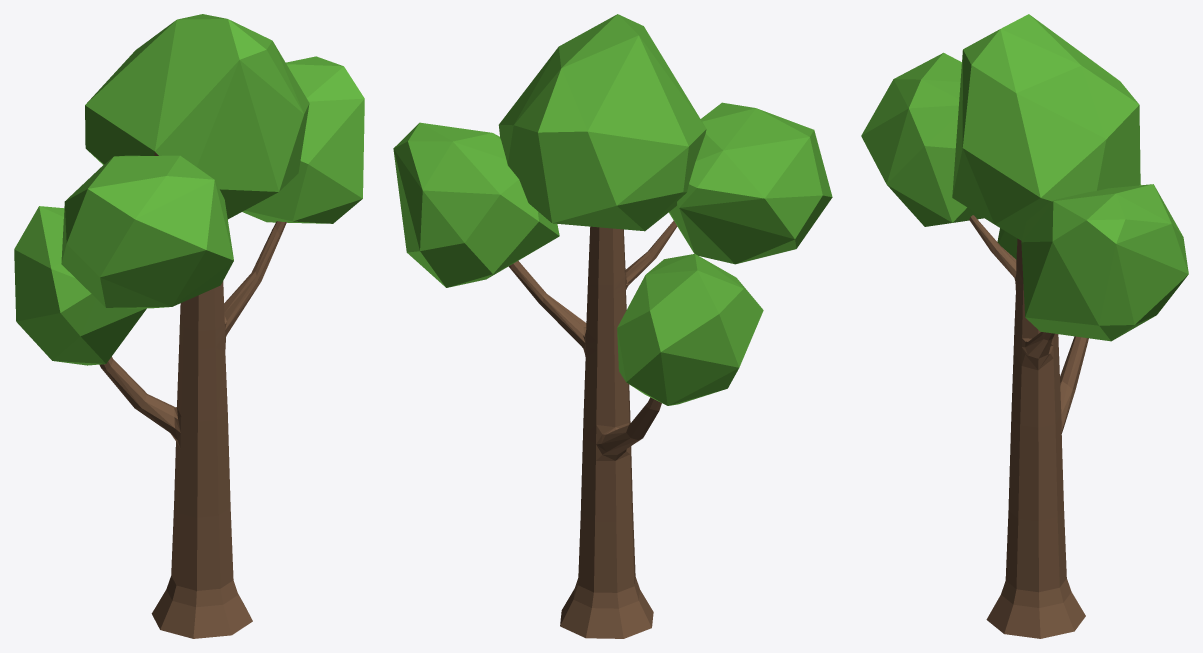
The model's file is Tree-2.fbx.
3 renders of one model, left to right at view 1: azimuth 30°, elevation 25°; view 2: azimuth 150°, elevation 25°; view 3: azimuth 270°, elevation 25°, orthographic. The views are drawn at different scales.
Parts seen in each view (by area): view 1: Herfst_Boom_2; view 2: Herfst_Boom_2; view 3: Herfst_Boom_2.
Part boxes in pixels (x1=…): Herfst_Boom_2: x1=14, y1=14, x2=364, y2=638; Herfst_Boom_2: x1=393, y1=14, x2=832, y2=638; Herfst_Boom_2: x1=861, y1=14, x2=1188, y2=638.
Size of the model in its own units: 1346 by 2187 by 1097.
1 material, 1 textured.
